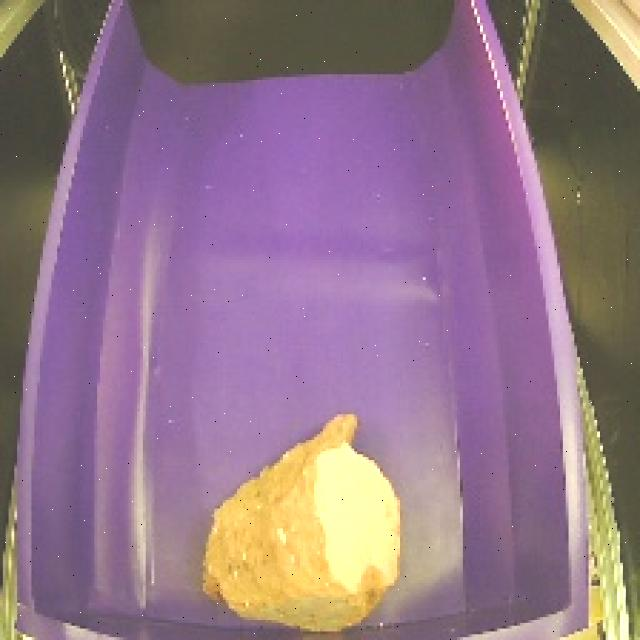brick: (193, 400, 409, 640)
